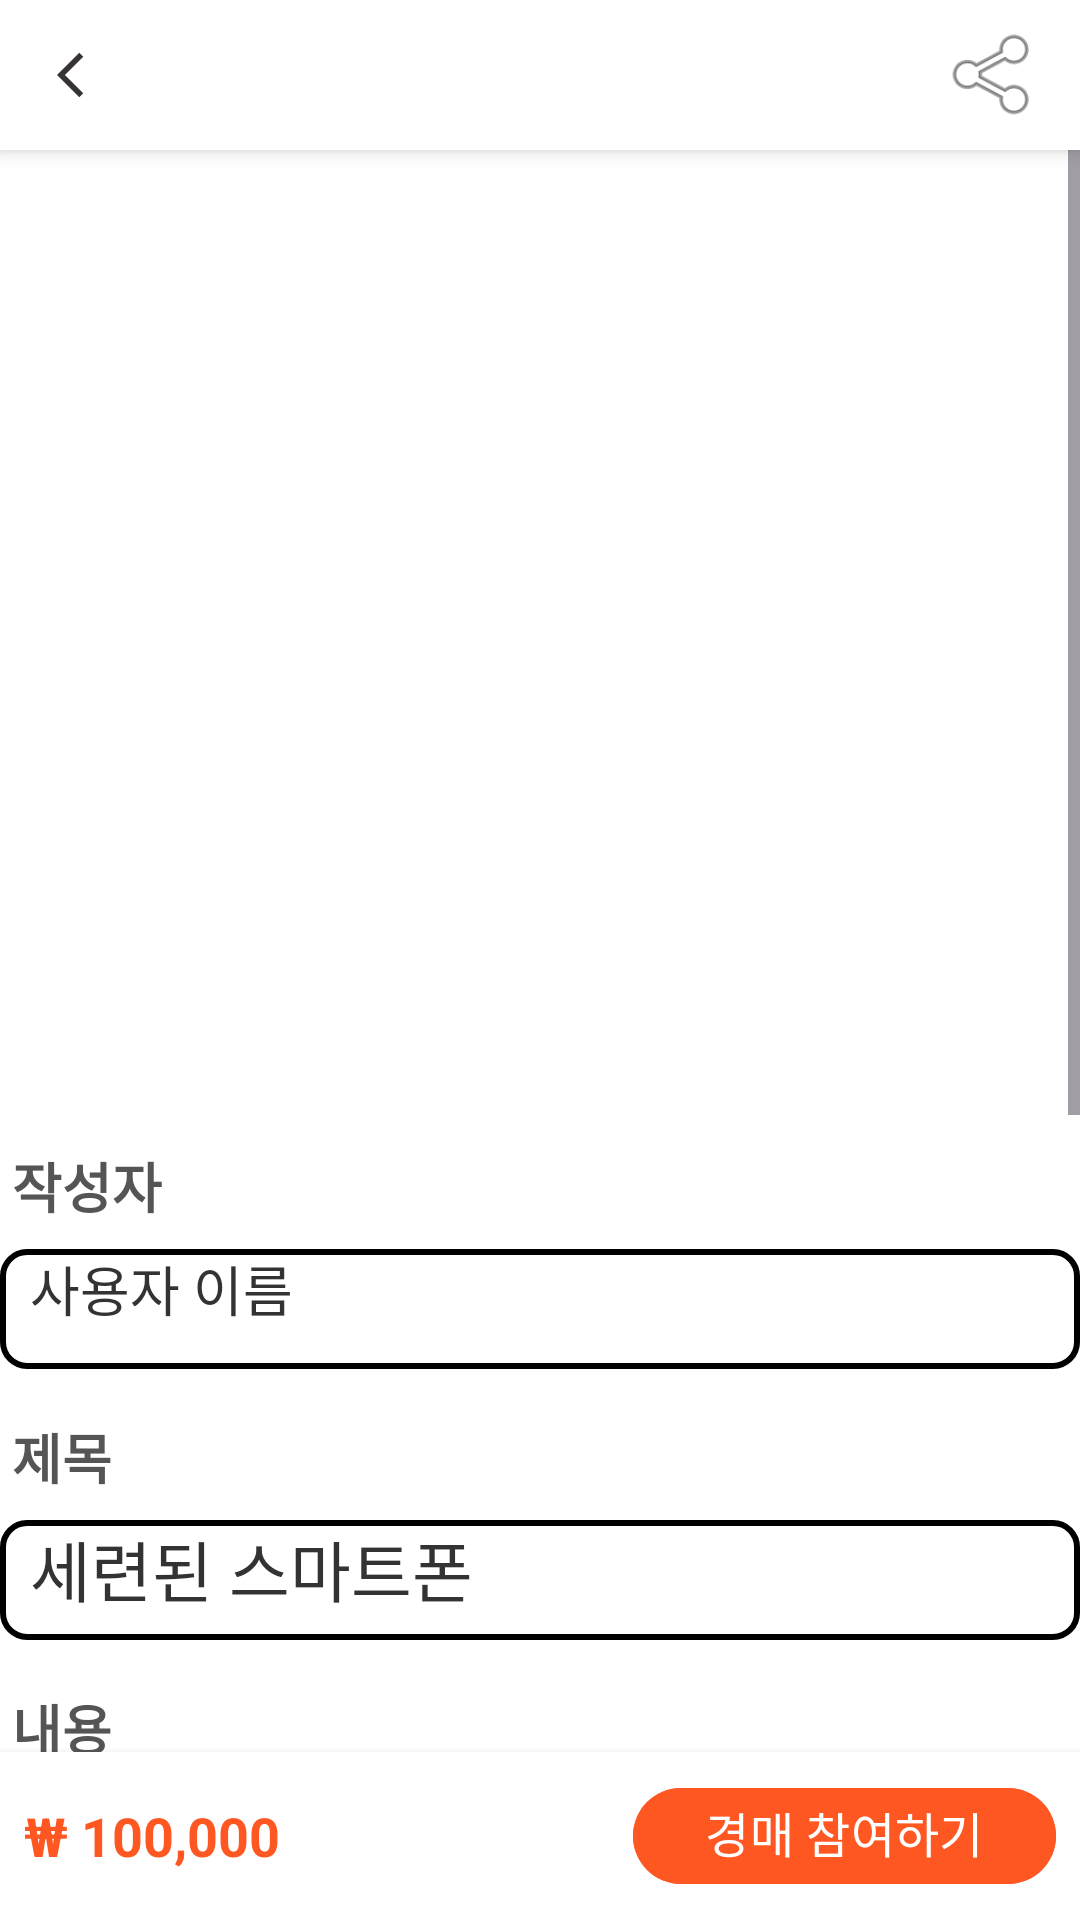

Icon bounding boxes for this 1080×1920 phone screenshot, format (x1, y1, x2, y2):
Back Button: (57, 53, 83, 97)
Share Button: (952, 34, 1029, 114)
